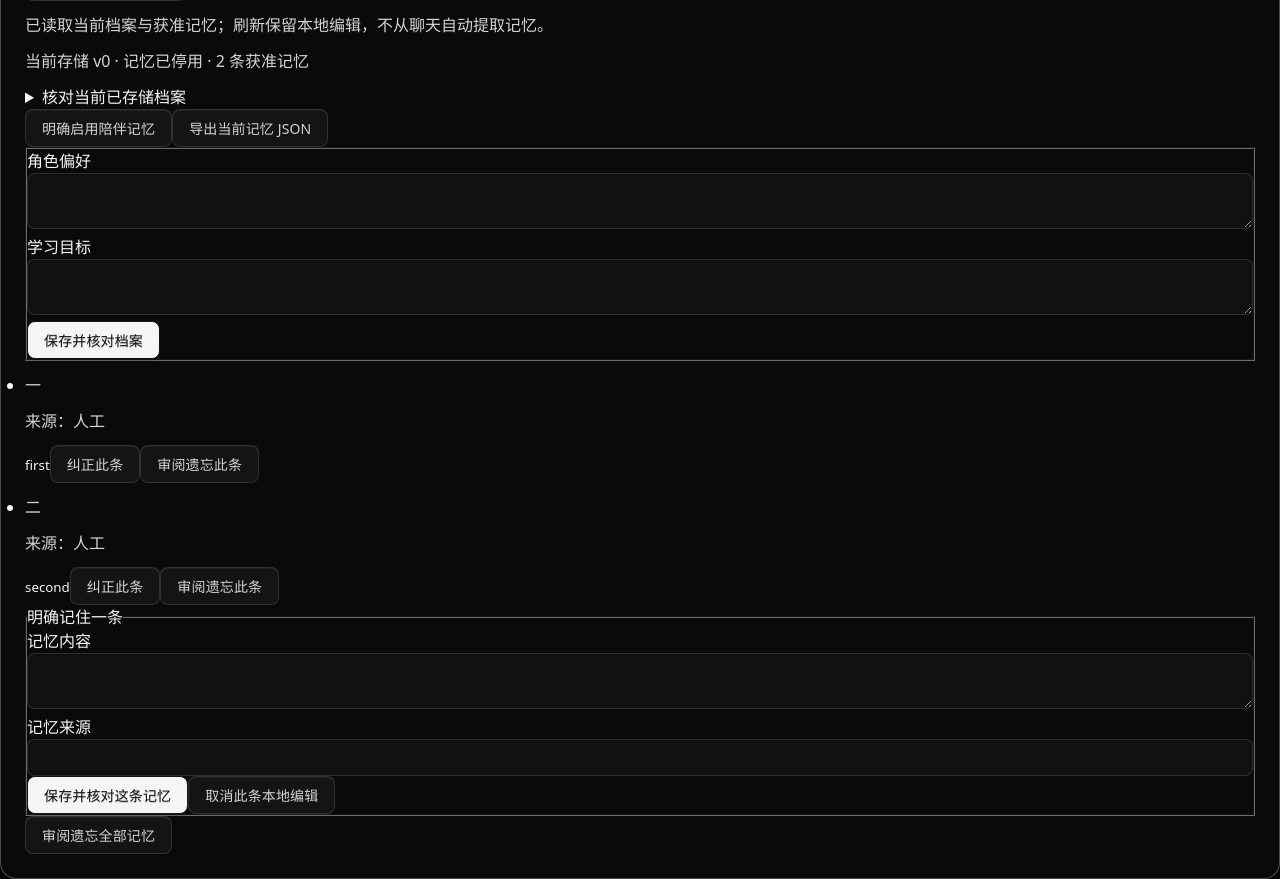
it: SIMULATED forgetting all uses the bounded Core operation and verifies all deleted identities
(page scrolled)
Expected: the text "当前存储 v0 · 记忆已停用 · 2 条获准记忆" is shown, [25,50,309,72]
Click the button "审阅遗忘全部记忆" at (99, 834), box [25,816,172,854]
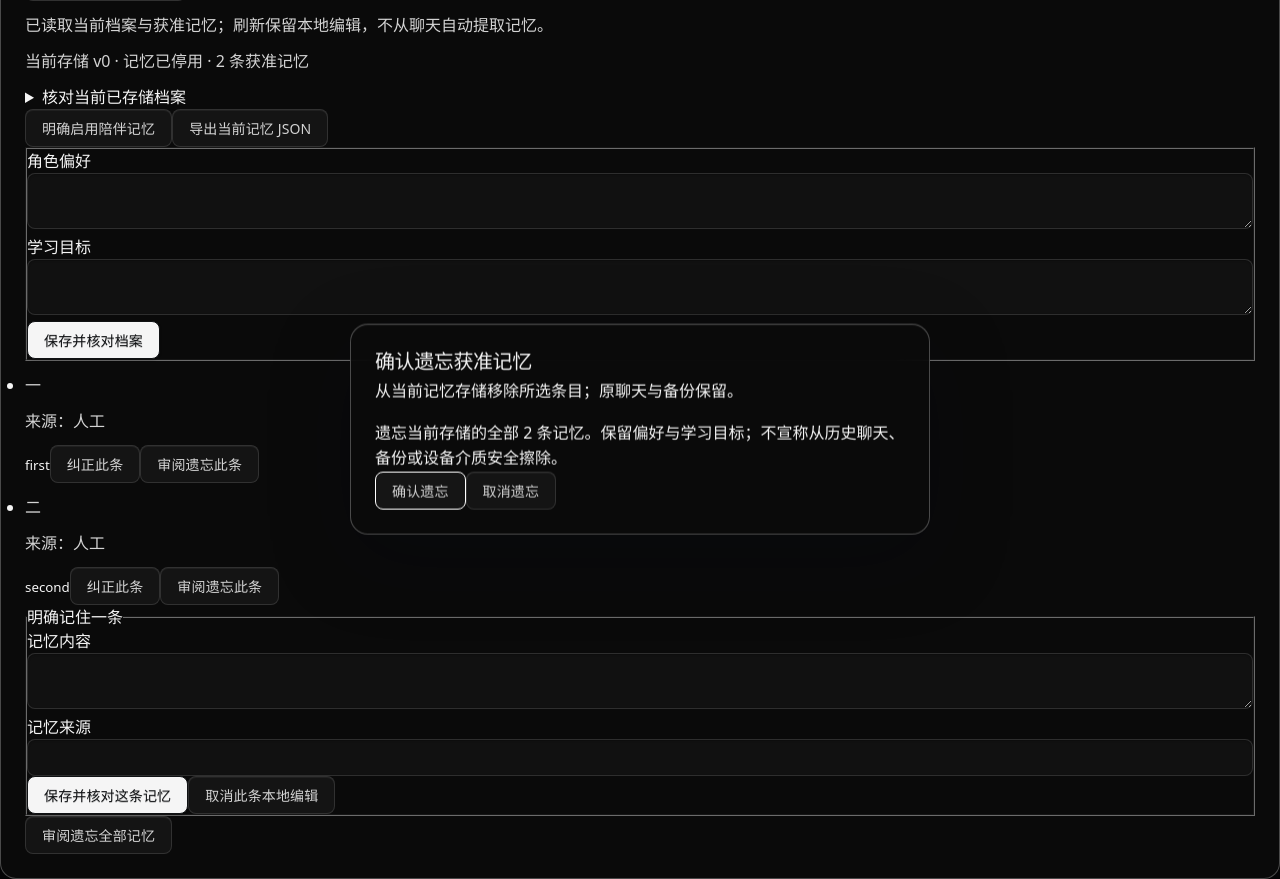
Click the button "确认遗忘" at (420, 490), box [375,471,466,509]
(page scrolled)
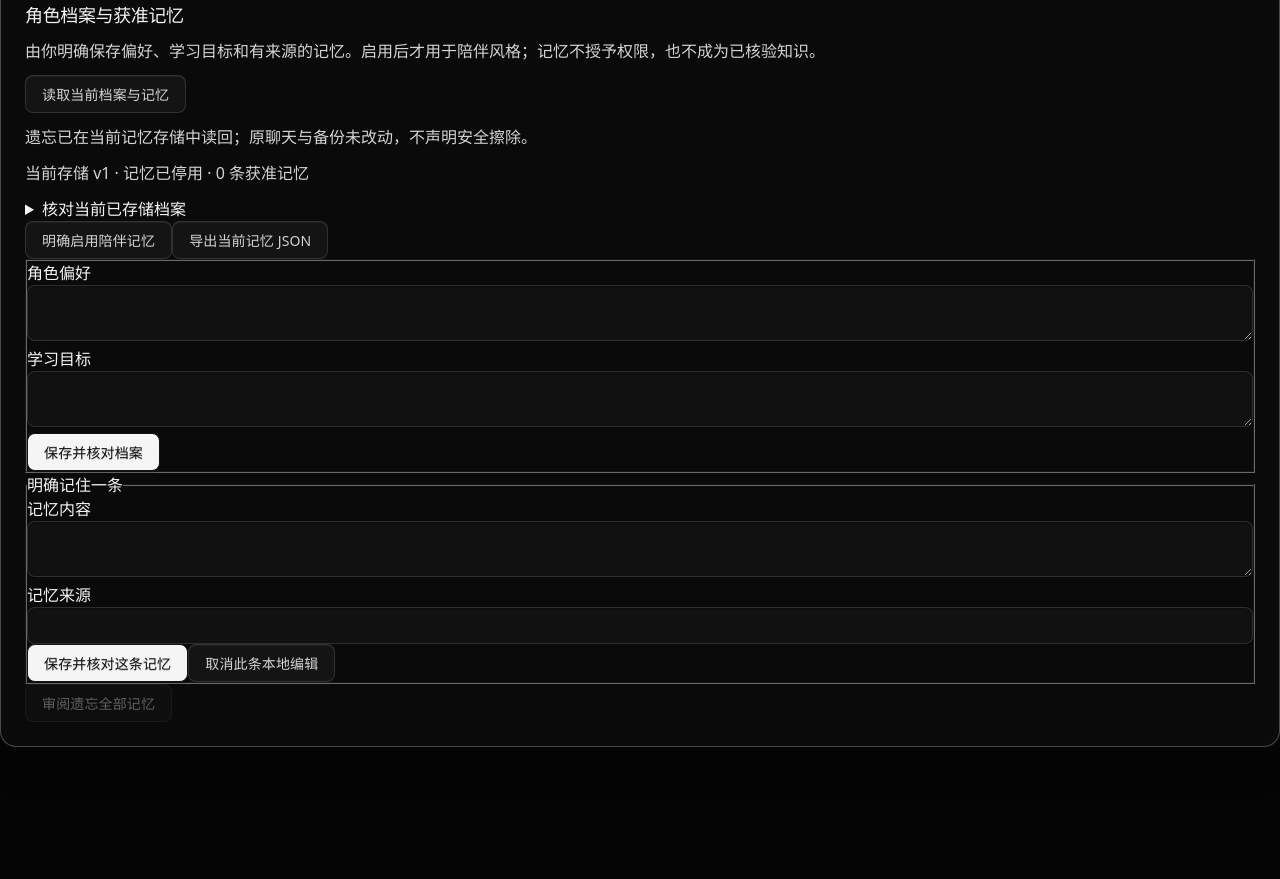
Result: the text "遗忘已在当前记忆存储中读回；原聊天与备份未改动，不声明安全擦除。" is shown at [25,126,537,148]
